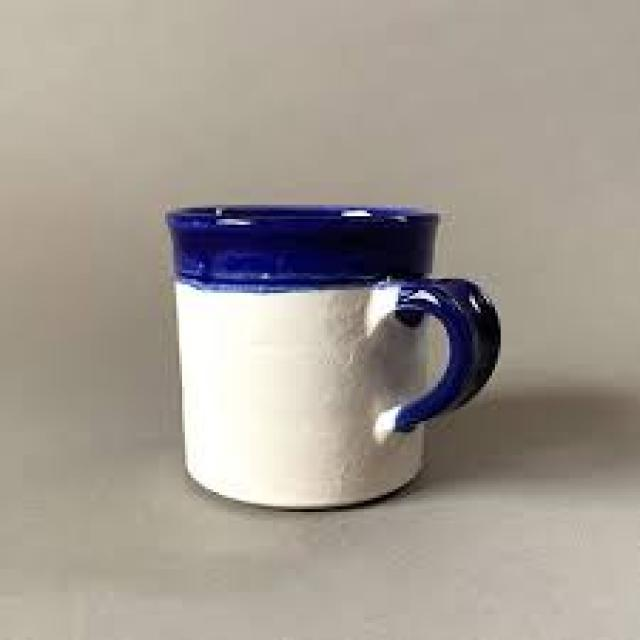taza: (166, 204, 502, 512)
